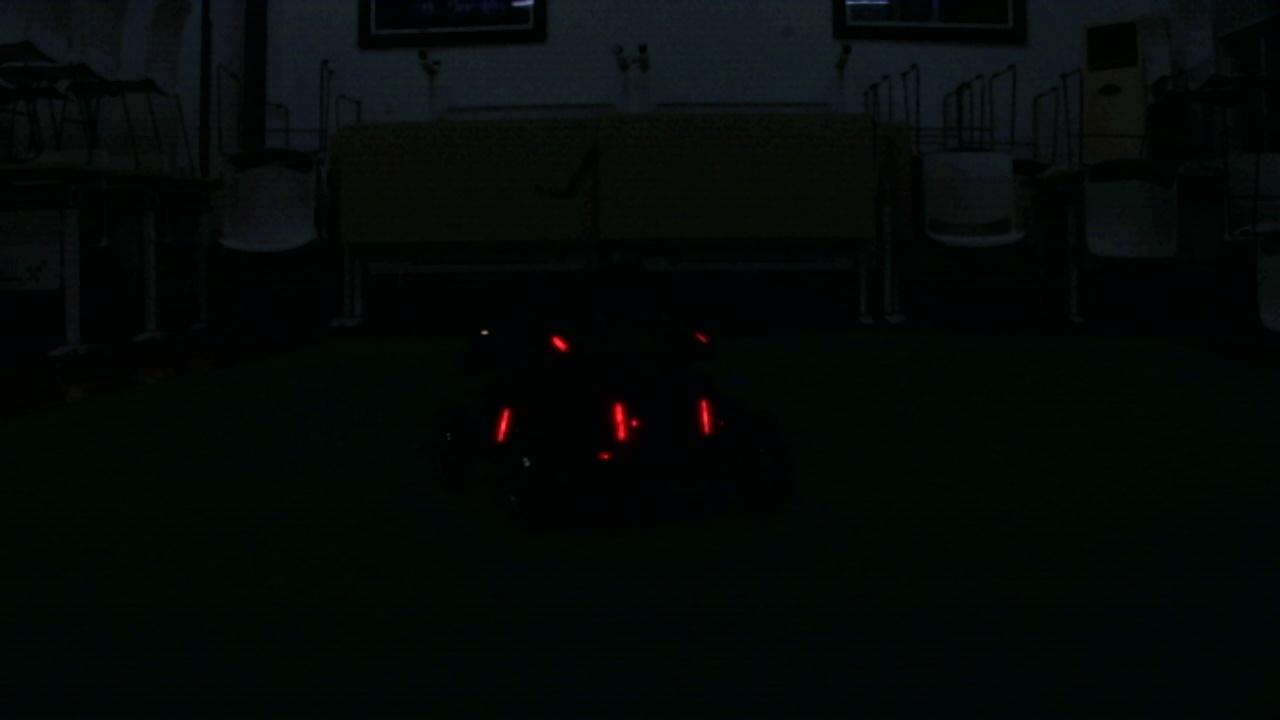lamp: (608, 399, 632, 442), (696, 397, 714, 435), (495, 405, 511, 439)
pair1: (614, 399, 710, 441)
